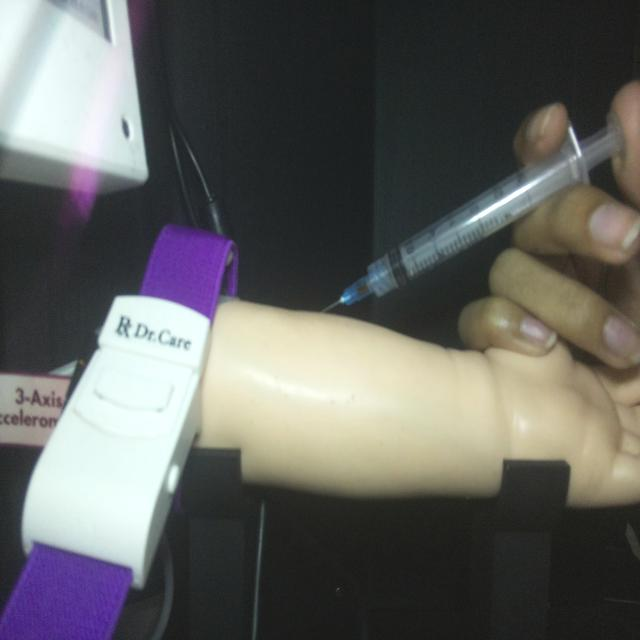24 degrees: (320, 110, 624, 315)
